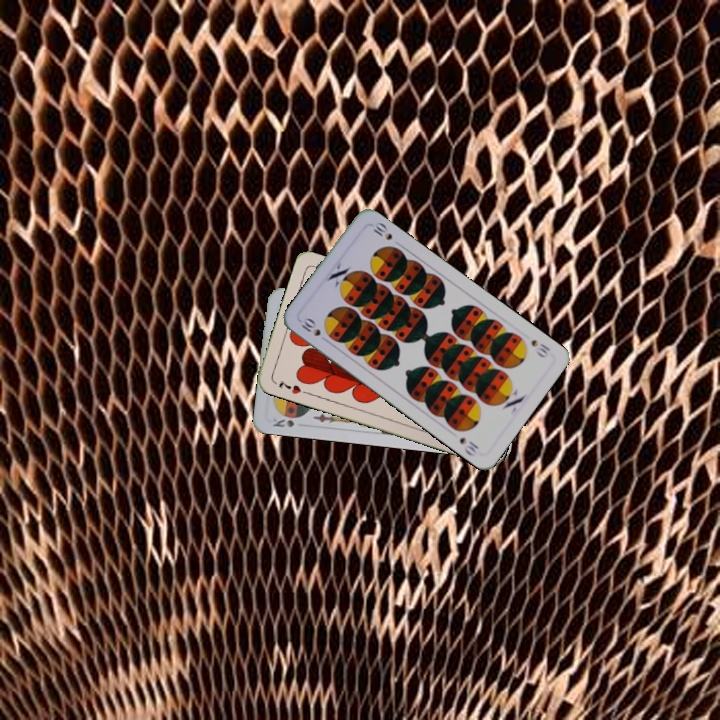H7: (275, 376, 303, 397)
S10: (296, 313, 323, 339), (527, 335, 553, 361)
SK: (269, 411, 304, 430)
